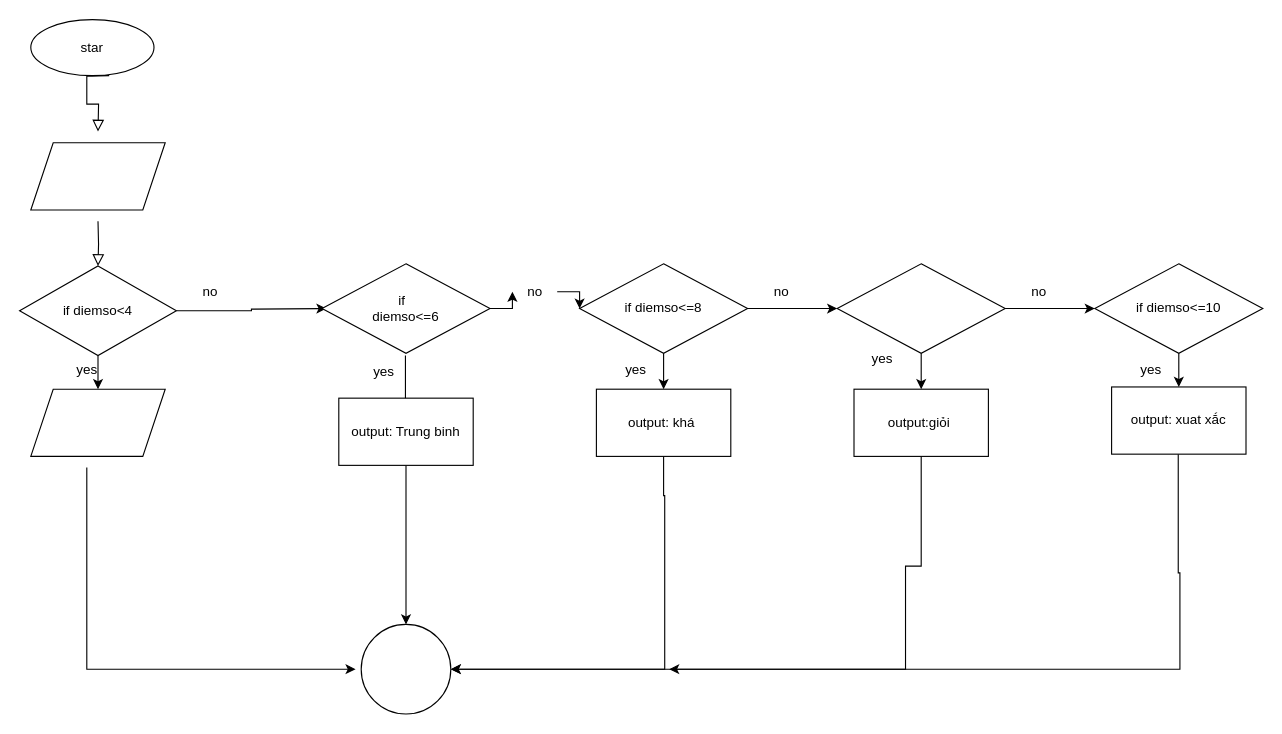
This 1282x734 diagram has some shape labels left out. Each missing label, with the box of its shape:
end: (360, 623, 451, 714)
if diemso<=9: (836, 263, 1005, 353)
input diemso: (30, 142, 165, 210)
output: khong dat: (30, 388, 165, 456)
